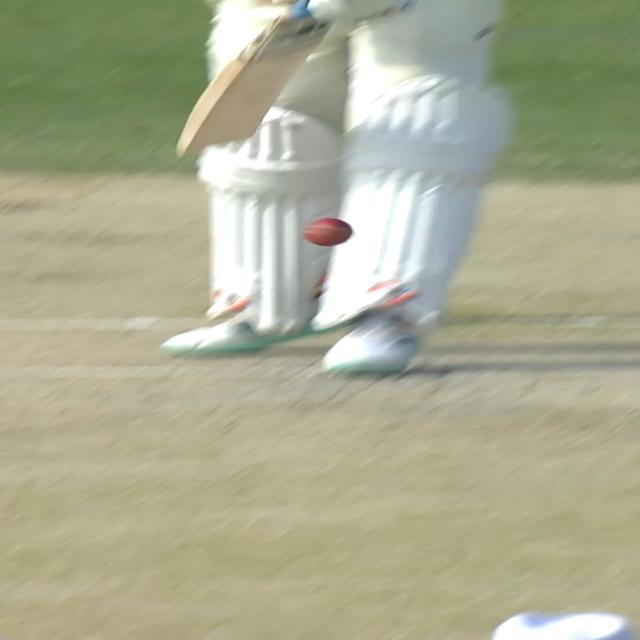Cricket ball: (302, 216, 356, 249)
